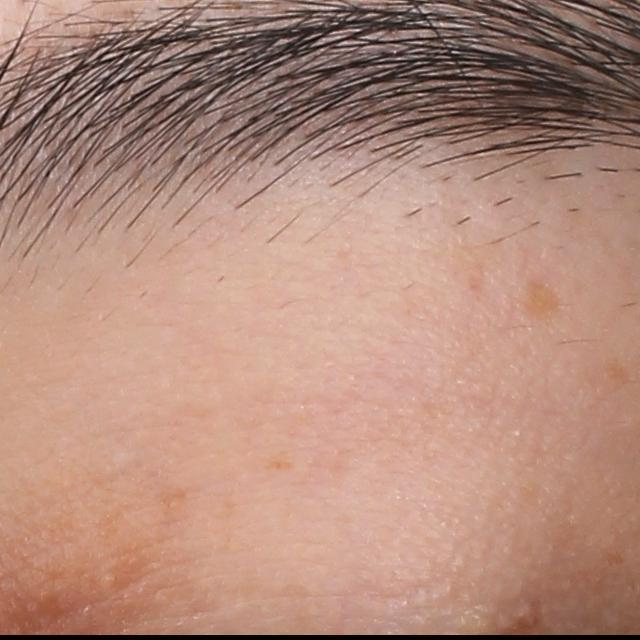melasma: (512, 285, 566, 327)
